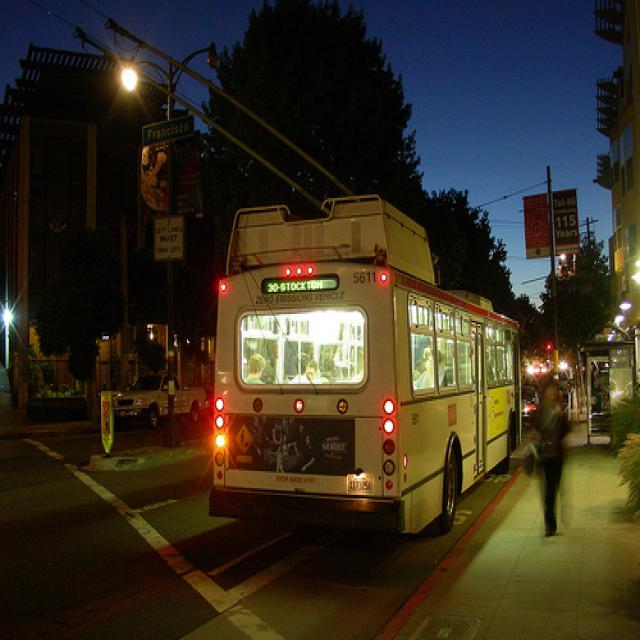Bus: (209, 183, 525, 541)
People: (541, 373, 588, 541)
car: (119, 364, 213, 431)
